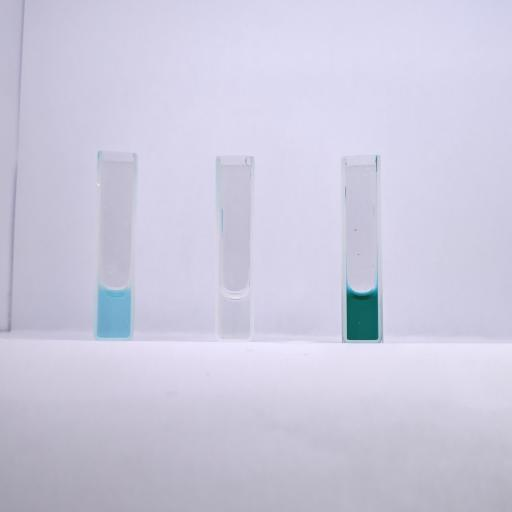cuvette: (92, 148, 140, 341), (339, 154, 386, 344), (213, 154, 257, 342)
liquid: (98, 284, 130, 337), (348, 285, 378, 340), (219, 290, 250, 338)
